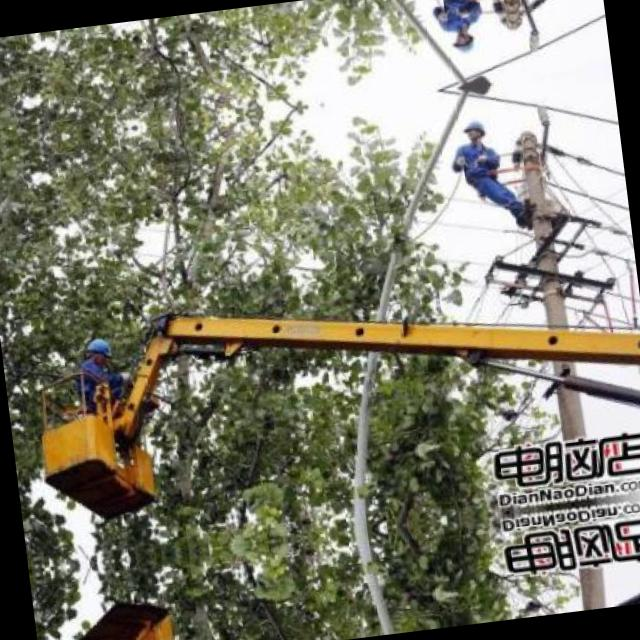helmet: (85, 333, 110, 365), (450, 29, 476, 58), (461, 115, 486, 144)
